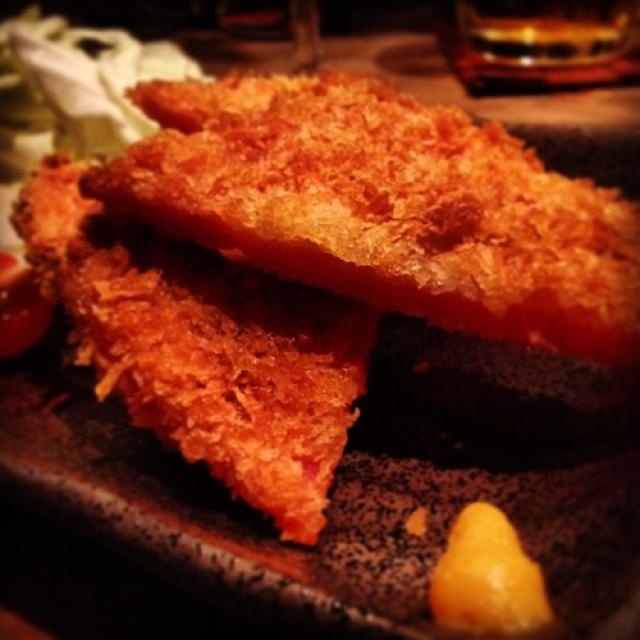炸货点心: (13, 23, 635, 599)
